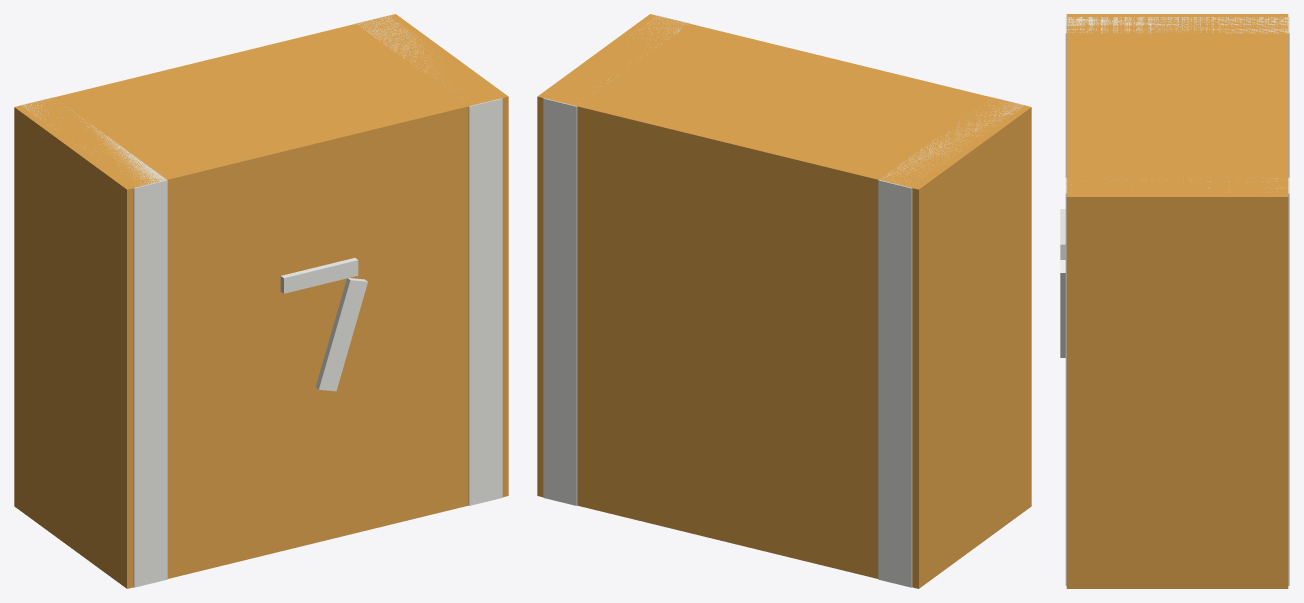
File: SportsJersey.glb
3 views of the same model, side by side, from view 1: azimuth 30°, elevation 25°; view 2: azimuth 150°, elevation 25°; view 3: azimuth 270°, elevation 25° (orthographic).
Parts seen in each view (by area): view 1: Jersey_Body, Jersey_Stripe_L, Jersey_Stripe_R, Num_Diag, Num_Top; view 2: Jersey_Body, Jersey_Stripe_L, Jersey_Stripe_R; view 3: Jersey_Body, Jersey_Stripe_L, Jersey_Stripe_R, Num_Diag.
Boxes of the visible parts, x1=… form: Jersey_Body: x1=14, y1=14, x2=508, y2=588; Jersey_Stripe_L: x1=20, y1=97, x2=167, y2=587; Jersey_Stripe_R: x1=355, y1=15, x2=502, y2=505; Num_Diag: x1=315, y1=278, x2=367, y2=391; Num_Top: x1=280, y1=258, x2=358, y2=293; Jersey_Body: x1=537, y1=14, x2=1031, y2=588; Jersey_Stripe_L: x1=878, y1=97, x2=1025, y2=587; Jersey_Stripe_R: x1=543, y1=15, x2=690, y2=505; Jersey_Body: x1=1066, y1=14, x2=1288, y2=588; Jersey_Stripe_L: x1=1065, y1=17, x2=1289, y2=177; Jersey_Stripe_R: x1=1065, y1=177, x2=1289, y2=585; Num_Diag: x1=1060, y1=260, x2=1065, y2=357.
Bounding box in the file's own units: 2.05 × 2.05 × 1.08.
